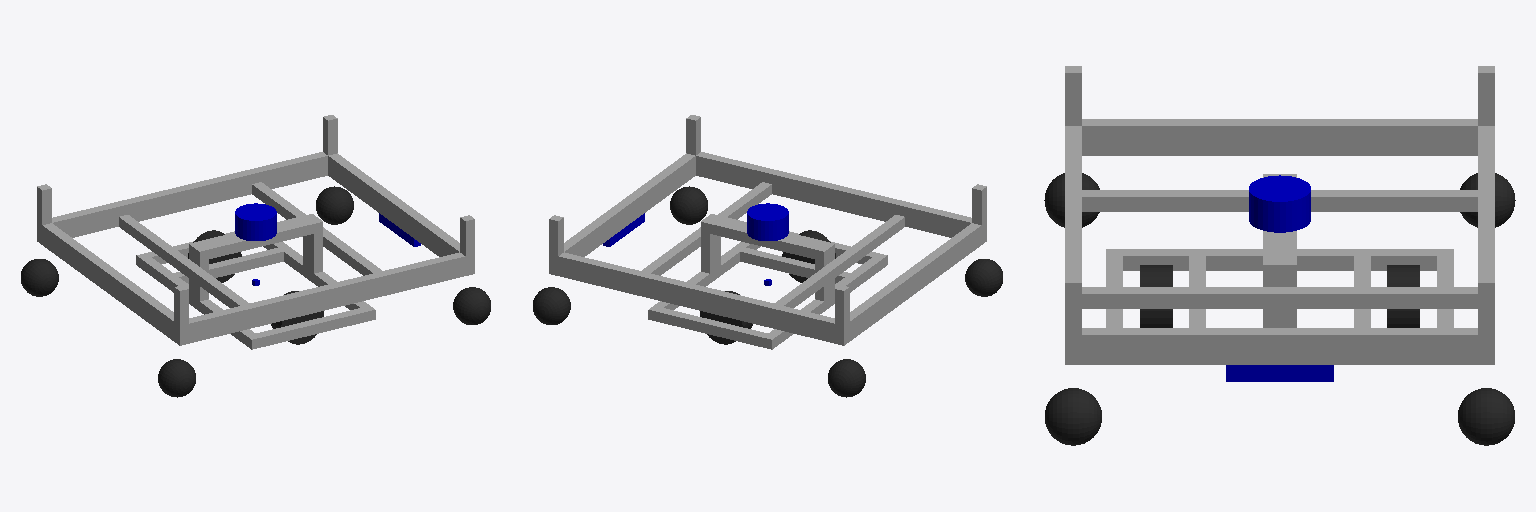
--- Facts derived from the render (not from the file) ---
Views: 3 orthographic renders of the robot side by side, from view 1: azimuth 30°, elevation 25°; view 2: azimuth 150°, elevation 25°; view 3: azimuth 270°, elevation 25°.
Model agv with 34 links and 33 joints (2 continuous, 31 fixed), rooted at base_link, posed all joints at 0.
Links seen in each view (by area): view 1: c5_beam, c6_beam, c3_beam, c4_beam, c1_beam, c2_beam, d10_beam, d3_beam, d6_beam, lidar_link, d2_beam, lfcaster_link (+9 smaller); view 2: c6_beam, c5_beam, c3_beam, c4_beam, c1_beam, c2_beam, d9_beam, d4_beam, d6_beam, lidar_link, d1_beam, rfcaster_link (+9 smaller); view 3: c3_beam, c4_beam, c2_beam, c1_beam, d6_beam, lidar_link, c5_beam, c6_beam, lfcaster_link, rfcaster_link, camera_link, lwheel_link (+14 smaller).
Boxes of the visible links, x1=… form: c5_beam: x1=174, y1=252, x2=474, y2=345; c6_beam: x1=37, y1=152, x2=327, y2=244; c3_beam: x1=42, y1=223, x2=173, y2=340; c4_beam: x1=328, y1=153, x2=459, y2=256; c1_beam: x1=119, y1=215, x2=249, y2=307; c2_beam: x1=252, y1=182, x2=381, y2=275; d10_beam: x1=194, y1=218, x2=322, y2=261; d3_beam: x1=256, y1=308, x2=365, y2=346; d6_beam: x1=136, y1=253, x2=260, y2=349; lidar_link: x1=235, y1=203, x2=276, y2=240; d2_beam: x1=174, y1=248, x2=283, y2=283; lfcaster_link: x1=316, y1=186, x2=353, y2=224; c6_beam: x1=549, y1=252, x2=849, y2=345; c5_beam: x1=696, y1=152, x2=986, y2=244; c3_beam: x1=850, y1=223, x2=981, y2=340; c4_beam: x1=564, y1=153, x2=695, y2=256; c1_beam: x1=774, y1=215, x2=904, y2=307; c2_beam: x1=642, y1=182, x2=771, y2=275; d9_beam: x1=701, y1=218, x2=829, y2=261; d4_beam: x1=658, y1=308, x2=767, y2=346; d6_beam: x1=763, y1=253, x2=887, y2=349; lidar_link: x1=747, y1=203, x2=788, y2=240; d1_beam: x1=740, y1=248, x2=849, y2=283; rfcaster_link: x1=670, y1=186, x2=707, y2=224; c3_beam: x1=1082, y1=119, x2=1477, y2=155; c4_beam: x1=1082, y1=328, x2=1477, y2=364; c2_beam: x1=1082, y1=287, x2=1477, y2=308; c1_beam: x1=1082, y1=190, x2=1477, y2=211; d6_beam: x1=1106, y1=249, x2=1453, y2=270; lidar_link: x1=1249, y1=175, x2=1310, y2=232; c5_beam: x1=1065, y1=126, x2=1081, y2=364; c6_beam: x1=1478, y1=126, x2=1494, y2=364; lfcaster_link: x1=1458, y1=388, x2=1514, y2=445; rfcaster_link: x1=1045, y1=388, x2=1101, y2=445; camera_link: x1=1226, y1=365, x2=1333, y2=381; lwheel_link: x1=1387, y1=265, x2=1419, y2=327.
Size in the robot's own frame: 0.69 by 0.57 by 0.215 metres.
Geometry: primitives only (box / cylinder / sphere), no mesh files.

robot.urdf — agv:
<?xml version="1.0" ?>
<!-- =================================================================================== -->
<!-- |    This document was autogenerated by xacro from ./main.xacro                   | -->
<!-- |    EDITING THIS FILE BY HAND IS NOT RECOMMENDED                                 | -->
<!-- =================================================================================== -->
<robot name="agv">
  <!-- <xacro:beam prefix="c1" parent="base_link" length="0.48" height="0.02" x="0" y="0" z="0" r="1" /> -->
  <!-- <xacro:driver_assembly /> -->
  <!-- <xacro:beam prefix="c1" parent="base_link" length="0.48" height="0.02" x="0" y="0" z="0" r="1" /> -->
  <!-- <xacro:carrier_assembly/> -->
  <!-- <xacro:beam prefix="c1" parent="base_link" length="0.48" height="0.02" x="0" y="0" z="0" r="1" /> -->
  <material name="Black">
    <color rgba="0.2 0.2 0.2 1.0"/>
  </material>
  <material name="Red">
    <color rgba="0.8 0.0 0.0 1.0"/>
  </material>
  <material name="White">
    <color rgba="1.0 1.0 1.0 1.0"/>
  </material>
  <material name="Gray">
    <color rgba="0.7 0.7 0.7 1.0"/>
  </material>
  <material name="Blue">
    <color rgba="0.0 0.0 0.8 1.0"/>
  </material>
  <!-- Base Link -->
  <link name="base_link">
    <visual>
      <geometry>
        <box size="0.001 0.001 0.001"/>
      </geometry>
      <material name="White"/>
    </visual>
  </link>
  <!-- Robot Footprint -->
  <link name="base_footprint"/>
  <joint name="base_joint" type="fixed">
    <parent link="base_link"/>
    <child link="base_footprint"/>
    <origin rpy="0 0 0" xyz="0.0 0.0 0"/>
  </joint>
  <link name="driver_base">
    <visual>
      <origin rpy="0 0 0" xyz="0 0 0"/>
      <geometry>
        <box size="0.001 0.001 0.001"/>
      </geometry>
    </visual>
    <inertial>
      <mass value="0.0001"/>
      <origin xyz="0 0 0"/>
      <inertia ixx="0.0001" ixy="0.0" ixz="0.0" iyy="0.0001" iyz="0.0" izz="0.0001"/>
    </inertial>
  </link>
  <link name="d1_beam">
    <visual>
      <origin rpy="0 0 1.5707963267948966" xyz="0 0 0"/>
      <geometry>
        <box size="0.22 0.02 0.02"/>
      </geometry>
      <material name="Gray"/>
    </visual>
    <collision>
      <origin rpy="0 0 1.5707963267948966" xyz="0 0 0"/>
      <geometry>
        <box size="0.22 0.02 0.02"/>
      </geometry>
    </collision>
    <inertial>
      <origin rpy="1.5707963267948966 0 1.5707963267948966" xyz="0 0 0"/>
      <mass value="0.094875"/>
      <inertia ixx="0.00038582499999999996" ixy="0.0" ixz="0.0" iyy="0.00038582499999999996" iyz="0.0" izz="6.3250000000000004e-06"/>
    </inertial>
  </link>
  <joint name="d1_beam_joint" type="fixed">
    <parent link="driver_base"/>
    <child link="d1_beam"/>
    <origin rpy="0 0 0" xyz="-0.1 0 0"/>
  </joint>
  <link name="d2_beam">
    <visual>
      <origin rpy="0 0 1.5707963267948966" xyz="0 0 0"/>
      <geometry>
        <box size="0.22 0.02 0.02"/>
      </geometry>
      <material name="Gray"/>
    </visual>
    <collision>
      <origin rpy="0 0 1.5707963267948966" xyz="0 0 0"/>
      <geometry>
        <box size="0.22 0.02 0.02"/>
      </geometry>
    </collision>
    <inertial>
      <origin rpy="1.5707963267948966 0 1.5707963267948966" xyz="0 0 0"/>
      <mass value="0.094875"/>
      <inertia ixx="0.00038582499999999996" ixy="0.0" ixz="0.0" iyy="0.00038582499999999996" iyz="0.0" izz="6.3250000000000004e-06"/>
    </inertial>
  </link>
  <joint name="d2_beam_joint" type="fixed">
    <parent link="driver_base"/>
    <child link="d2_beam"/>
    <origin rpy="0 0 0" xyz="0.1 0 0"/>
  </joint>
  <link name="d3_beam">
    <visual>
      <origin rpy="0 0 1.5707963267948966" xyz="0 0 0"/>
      <geometry>
        <box size="0.22 0.02 0.02"/>
      </geometry>
      <material name="Gray"/>
    </visual>
    <collision>
      <origin rpy="0 0 1.5707963267948966" xyz="0 0 0"/>
      <geometry>
        <box size="0.22 0.02 0.02"/>
      </geometry>
    </collision>
    <inertial>
      <origin rpy="1.5707963267948966 0 1.5707963267948966" xyz="0 0 0"/>
      <mass value="0.094875"/>
      <inertia ixx="0.00038582499999999996" ixy="0.0" ixz="0.0" iyy="0.00038582499999999996" iyz="0.0" izz="6.3250000000000004e-06"/>
    </inertial>
  </link>
  <joint name="d3_beam_joint" type="fixed">
    <parent link="driver_base"/>
    <child link="d3_beam"/>
    <origin rpy="0 0 0" xyz="-0.2 0 0"/>
  </joint>
  <link name="d4_beam">
    <visual>
      <origin rpy="0 0 1.5707963267948966" xyz="0 0 0"/>
      <geometry>
        <box size="0.22 0.02 0.02"/>
      </geometry>
      <material name="Gray"/>
    </visual>
    <collision>
      <origin rpy="0 0 1.5707963267948966" xyz="0 0 0"/>
      <geometry>
        <box size="0.22 0.02 0.02"/>
      </geometry>
    </collision>
    <inertial>
      <origin rpy="1.5707963267948966 0 1.5707963267948966" xyz="0 0 0"/>
      <mass value="0.094875"/>
      <inertia ixx="0.00038582499999999996" ixy="0.0" ixz="0.0" iyy="0.00038582499999999996" iyz="0.0" izz="6.3250000000000004e-06"/>
    </inertial>
  </link>
  <joint name="d4_beam_joint" type="fixed">
    <parent link="driver_base"/>
    <child link="d4_beam"/>
    <origin rpy="0 0 0" xyz="0.2 0 0"/>
  </joint>
  <link name="d5_beam">
    <visual>
      <origin rpy="0 0 0.0" xyz="0 0 0"/>
      <geometry>
        <box size="0.42 0.02 0.02"/>
      </geometry>
      <material name="Gray"/>
    </visual>
    <collision>
      <origin rpy="0 0 0.0" xyz="0 0 0"/>
      <geometry>
        <box size="0.42 0.02 0.02"/>
      </geometry>
    </collision>
    <inertial>
      <origin rpy="1.5707963267948966 0 1.5707963267948966" xyz="0 0 0"/>
      <mass value="0.181125"/>
      <inertia ixx="0.002668575" ixy="0.0" ixz="0.0" iyy="0.002668575" iyz="0.0" izz="1.2075000000000002e-05"/>
    </inertial>
  </link>
  <joint name="d5_beam_joint" type="fixed">
    <parent link="driver_base"/>
    <child link="d5_beam"/>
    <origin rpy="0 0 0" xyz="0 -0.12 0"/>
  </joint>
  <link name="d6_beam">
    <visual>
      <origin rpy="0 0 0.0" xyz="0 0 0"/>
      <geometry>
        <box size="0.42 0.02 0.02"/>
      </geometry>
      <material name="Gray"/>
    </visual>
    <collision>
      <origin rpy="0 0 0.0" xyz="0 0 0"/>
      <geometry>
        <box size="0.42 0.02 0.02"/>
      </geometry>
    </collision>
    <inertial>
      <origin rpy="1.5707963267948966 0 1.5707963267948966" xyz="0 0 0"/>
      <mass value="0.181125"/>
      <inertia ixx="0.002668575" ixy="0.0" ixz="0.0" iyy="0.002668575" iyz="0.0" izz="1.2075000000000002e-05"/>
    </inertial>
  </link>
  <joint name="d6_beam_joint" type="fixed">
    <parent link="driver_base"/>
    <child link="d6_beam"/>
    <origin rpy="0 0 0" xyz="0 0.12 0"/>
  </joint>
  <link name="d7_beam">
    <visual>
      <origin rpy="0 0 0.0" xyz="0 0 0"/>
      <geometry>
        <box size="0.04 0.02 0.08"/>
      </geometry>
      <material name="Gray"/>
    </visual>
    <inertial>
      <origin rpy="1.5707963267948966 0 1.5707963267948966" xyz="0 0 0"/>
      <mass value="0.069"/>
      <inertia ixx="4.600000000000001e-05" ixy="0.0" ixz="0.0" iyy="1.1500000000000002e-05" iyz="0.0" izz="3.910000000000001e-05"/>
    </inertial>
  </link>
  <joint name="d7_beam_joint" type="fixed">
    <parent link="driver_base"/>
    <child link="d7_beam"/>
    <origin rpy="0 0 0" xyz="0 -0.12 0.05"/>
  </joint>
  <link name="d8_beam">
    <visual>
      <origin rpy="0 0 0.0" xyz="0 0 0"/>
      <geometry>
        <box size="0.04 0.02 0.08"/>
      </geometry>
      <material name="Gray"/>
    </visual>
    <inertial>
      <origin rpy="1.5707963267948966 0 1.5707963267948966" xyz="0 0 0"/>
      <mass value="0.069"/>
      <inertia ixx="4.600000000000001e-05" ixy="0.0" ixz="0.0" iyy="1.1500000000000002e-05" iyz="0.0" izz="3.910000000000001e-05"/>
    </inertial>
  </link>
  <joint name="d8_beam_joint" type="fixed">
    <parent link="driver_base"/>
    <child link="d8_beam"/>
    <origin rpy="0 0 0" xyz="0 0.12 0.05"/>
  </joint>
  <link name="d9_beam">
    <visual>
      <origin rpy="0 0 1.5707963267948966" xyz="0 0 0"/>
      <geometry>
        <box size="0.26 0.02 0.02"/>
      </geometry>
      <material name="Gray"/>
    </visual>
    <inertial>
      <origin rpy="1.5707963267948966 0 1.5707963267948966" xyz="0 0 0"/>
      <mass value="0.11212500000000002"/>
      <inertia ixx="0.0006353750000000001" ixy="0.0" ixz="0.0" iyy="0.0006353750000000001" iyz="0.0" izz="7.475000000000001e-06"/>
    </inertial>
  </link>
  <joint name="d9_beam_joint" type="fixed">
    <parent link="driver_base"/>
    <child link="d9_beam"/>
    <origin rpy="0 0 0" xyz="0.01 0 0.1"/>
  </joint>
  <link name="d10_beam">
    <visual>
      <origin rpy="0 0 1.5707963267948966" xyz="0 0 0"/>
      <geometry>
        <box size="0.26 0.02 0.02"/>
      </geometry>
      <material name="Gray"/>
    </visual>
    <inertial>
      <origin rpy="1.5707963267948966 0 1.5707963267948966" xyz="0 0 0"/>
      <mass value="0.11212500000000002"/>
      <inertia ixx="0.0006353750000000001" ixy="0.0" ixz="0.0" iyy="0.0006353750000000001" iyz="0.0" izz="7.475000000000001e-06"/>
    </inertial>
  </link>
  <joint name="d10_beam_joint" type="fixed">
    <parent link="driver_base"/>
    <child link="d10_beam"/>
    <origin rpy="0 0 0" xyz="-0.01 0 0.1"/>
  </joint>
  <joint name="driver_base_joint" type="fixed">
    <parent link="base_link"/>
    <child link="driver_base"/>
    <origin rpy="0 0 1.5707963267948966" xyz="0 0 0"/>
  </joint>
  <link name="carrier_base">
    <visual>
      <origin rpy="0 0 0" xyz="0 0 0"/>
      <geometry>
        <box size="0.001 0.001 0.001"/>
      </geometry>
    </visual>
    <inertial>
      <mass value="0.0001"/>
      <origin xyz="0 0 0"/>
      <inertia ixx="0.0001" ixy="0.0" ixz="0.0" iyy="0.0001" iyz="0.0" izz="0.0001"/>
    </inertial>
  </link>
  <link name="c1_beam">
    <visual>
      <origin rpy="0 0 1.5707963267948966" xyz="0 0 0"/>
      <geometry>
        <box size="0.48 0.02 0.02"/>
      </geometry>
      <material name="Gray"/>
    </visual>
    <collision>
      <origin rpy="0 0 1.5707963267948966" xyz="0 0 0"/>
      <geometry>
        <box size="0.48 0.02 0.02"/>
      </geometry>
    </collision>
    <inertial>
      <origin rpy="1.5707963267948966 0 1.5707963267948966" xyz="0 0 0"/>
      <mass value="0.207"/>
      <inertia ixx="0.003981299999999999" ixy="0.0" ixz="0.0" iyy="0.003981299999999999" iyz="0.0" izz="1.3799999999999998e-05"/>
    </inertial>
  </link>
  <joint name="c1_beam_joint" type="fixed">
    <parent link="carrier_base"/>
    <child link="c1_beam"/>
    <origin rpy="0 0 0" xyz="-0.14 0 -0.01"/>
  </joint>
  <link name="c2_beam">
    <visual>
      <origin rpy="0 0 1.5707963267948966" xyz="0 0 0"/>
      <geometry>
        <box size="0.48 0.02 0.02"/>
      </geometry>
      <material name="Gray"/>
    </visual>
    <collision>
      <origin rpy="0 0 1.5707963267948966" xyz="0 0 0"/>
      <geometry>
        <box size="0.48 0.02 0.02"/>
      </geometry>
    </collision>
    <inertial>
      <origin rpy="1.5707963267948966 0 1.5707963267948966" xyz="0 0 0"/>
      <mass value="0.207"/>
      <inertia ixx="0.003981299999999999" ixy="0.0" ixz="0.0" iyy="0.003981299999999999" iyz="0.0" izz="1.3799999999999998e-05"/>
    </inertial>
  </link>
  <joint name="c2_beam_joint" type="fixed">
    <parent link="carrier_base"/>
    <child link="c2_beam"/>
    <origin rpy="0 0 0" xyz="0.14 0 -0.01"/>
  </joint>
  <link name="c3_beam">
    <visual>
      <origin rpy="0 0 1.5707963267948966" xyz="0 0 0"/>
      <geometry>
        <box size="0.48 0.02 0.04"/>
      </geometry>
      <material name="Gray"/>
    </visual>
    <collision>
      <origin rpy="0 0 1.5707963267948966" xyz="0 0 0"/>
      <geometry>
        <box size="0.48 0.02 0.04"/>
      </geometry>
    </collision>
    <inertial>
      <origin rpy="1.5707963267948966 0 1.5707963267948966" xyz="0 0 0"/>
      <mass value="0.414"/>
      <inertia ixx="0.008003999999999999" ixy="0.0" ixz="0.0" iyy="0.007962599999999998" iyz="0.0" izz="6.9e-05"/>
    </inertial>
  </link>
  <joint name="c3_beam_joint" type="fixed">
    <parent link="carrier_base"/>
    <child link="c3_beam"/>
    <origin rpy="0 0 0" xyz="-0.3 0 0"/>
  </joint>
  <link name="c4_beam">
    <visual>
      <origin rpy="0 0 1.5707963267948966" xyz="0 0 0"/>
      <geometry>
        <box size="0.48 0.02 0.04"/>
      </geometry>
      <material name="Gray"/>
    </visual>
    <collision>
      <origin rpy="0 0 1.5707963267948966" xyz="0 0 0"/>
      <geometry>
        <box size="0.48 0.02 0.04"/>
      </geometry>
    </collision>
    <inertial>
      <origin rpy="1.5707963267948966 0 1.5707963267948966" xyz="0 0 0"/>
      <mass value="0.414"/>
      <inertia ixx="0.008003999999999999" ixy="0.0" ixz="0.0" iyy="0.007962599999999998" iyz="0.0" izz="6.9e-05"/>
    </inertial>
  </link>
  <joint name="c4_beam_joint" type="fixed">
    <parent link="carrier_base"/>
    <child link="c4_beam"/>
    <origin rpy="0 0 0" xyz="0.3 0 0"/>
  </joint>
  <link name="c5_beam">
    <visual>
      <origin rpy="0 0 0.0" xyz="0 0 0"/>
      <geometry>
        <box size="0.62 0.02 0.04"/>
      </geometry>
      <material name="Gray"/>
    </visual>
    <collision>
      <origin rpy="0 0 0.0" xyz="0 0 0"/>
      <geometry>
        <box size="0.62 0.02 0.04"/>
      </geometry>
    </collision>
    <inertial>
      <origin rpy="1.5707963267948966 0 1.5707963267948966" xyz="0 0 0"/>
      <mass value="0.5347500000000001"/>
      <inertia ixx="0.017201125" ixy="0.0" ixz="0.0" iyy="0.017147650000000004" iyz="0.0" izz="8.912500000000001e-05"/>
    </inertial>
  </link>
  <joint name="c5_beam_joint" type="fixed">
    <parent link="carrier_base"/>
    <child link="c5_beam"/>
    <origin rpy="0 0 0" xyz="0 -0.25 0"/>
  </joint>
  <link name="c6_beam">
    <visual>
      <origin rpy="0 0 0.0" xyz="0 0 0"/>
      <geometry>
        <box size="0.62 0.02 0.04"/>
      </geometry>
      <material name="Gray"/>
    </visual>
    <collision>
      <origin rpy="0 0 0.0" xyz="0 0 0"/>
      <geometry>
        <box size="0.62 0.02 0.04"/>
      </geometry>
    </collision>
    <inertial>
      <origin rpy="1.5707963267948966 0 1.5707963267948966" xyz="0 0 0"/>
      <mass value="0.5347500000000001"/>
      <inertia ixx="0.017201125" ixy="0.0" ixz="0.0" iyy="0.017147650000000004" iyz="0.0" izz="8.912500000000001e-05"/>
    </inertial>
  </link>
  <joint name="c6_beam_joint" type="fixed">
    <parent link="carrier_base"/>
    <child link="c6_beam"/>
    <origin rpy="0 0 0" xyz="0 0.25 0"/>
  </joint>
  <link name="c7_beam">
    <visual>
      <origin rpy="0 0 0.0" xyz="0 0 0"/>
      <geometry>
        <box size="0.02 0.02 0.07"/>
      </geometry>
      <material name="Gray"/>
    </visual>
    <collision>
      <origin rpy="0 0 0.0" xyz="0 0 0"/>
      <geometry>
        <box size="0.02 0.02 0.07"/>
      </geometry>
    </collision>
    <inertial>
      <origin rpy="1.5707963267948966 0 1.5707963267948966" xyz="0 0 0"/>
      <mass value="0.030187500000000006"/>
      <inertia ixx="1.3332812500000005e-05" ixy="0.0" ixz="0.0" iyy="2.0125000000000006e-06" iyz="0.0" izz="1.3332812500000005e-05"/>
    </inertial>
  </link>
  <joint name="c7_beam_joint" type="fixed">
    <parent link="carrier_base"/>
    <child link="c7_beam"/>
    <origin rpy="0 0 0" xyz="0.3 -0.25 0.055"/>
  </joint>
  <link name="c8_beam">
    <visual>
      <origin rpy="0 0 0.0" xyz="0 0 0"/>
      <geometry>
        <box size="0.02 0.02 0.07"/>
      </geometry>
      <material name="Gray"/>
    </visual>
    <collision>
      <origin rpy="0 0 0.0" xyz="0 0 0"/>
      <geometry>
        <box size="0.02 0.02 0.07"/>
      </geometry>
    </collision>
    <inertial>
      <origin rpy="1.5707963267948966 0 1.5707963267948966" xyz="0 0 0"/>
      <mass value="0.030187500000000006"/>
      <inertia ixx="1.3332812500000005e-05" ixy="0.0" ixz="0.0" iyy="2.0125000000000006e-06" iyz="0.0" izz="1.3332812500000005e-05"/>
    </inertial>
  </link>
  <joint name="c8_beam_joint" type="fixed">
    <parent link="carrier_base"/>
    <child link="c8_beam"/>
    <origin rpy="0 0 0" xyz="0.3 0.25 0.055"/>
  </joint>
  <link name="c9_beam">
    <visual>
      <origin rpy="0 0 0.0" xyz="0 0 0"/>
      <geometry>
        <box size="0.02 0.02 0.07"/>
      </geometry>
      <material name="Gray"/>
    </visual>
    <collision>
      <origin rpy="0 0 0.0" xyz="0 0 0"/>
      <geometry>
        <box size="0.02 0.02 0.07"/>
      </geometry>
    </collision>
    <inertial>
      <origin rpy="1.5707963267948966 0 1.5707963267948966" xyz="0 0 0"/>
      <mass value="0.030187500000000006"/>
      <inertia ixx="1.3332812500000005e-05" ixy="0.0" ixz="0.0" iyy="2.0125000000000006e-06" iyz="0.0" izz="1.3332812500000005e-05"/>
    </inertial>
  </link>
  <joint name="c9_beam_joint" type="fixed">
    <parent link="carrier_base"/>
    <child link="c9_beam"/>
    <origin rpy="0 0 0" xyz="-0.3 -0.25 0.055"/>
  </joint>
  <link name="c10_beam">
    <visual>
      <origin rpy="0 0 0.0" xyz="0 0 0"/>
      <geometry>
        <box size="0.02 0.02 0.07"/>
      </geometry>
      <material name="Gray"/>
    </visual>
    <collision>
      <origin rpy="0 0 0.0" xyz="0 0 0"/>
      <geometry>
        <box size="0.02 0.02 0.07"/>
      </geometry>
    </collision>
    <inertial>
      <origin rpy="1.5707963267948966 0 1.5707963267948966" xyz="0 0 0"/>
      <mass value="0.030187500000000006"/>
      <inertia ixx="1.3332812500000005e-05" ixy="0.0" ixz="0.0" iyy="2.0125000000000006e-06" iyz="0.0" izz="1.3332812500000005e-05"/>
    </inertial>
  </link>
  <joint name="c10_beam_joint" type="fixed">
    <parent link="carrier_base"/>
    <child link="c10_beam"/>
    <origin rpy="0 0 0" xyz="-0.3 0.25 0.055"/>
  </joint>
  <joint name="carrier_base_joint" type="fixed">
    <parent link="base_link"/>
    <child link="carrier_base"/>
    <origin rpy="0 0 0" xyz="0 0 0.08"/>
  </joint>
  <link name="lwheel_link">
    <visual>
      <origin rpy="1.5707963267948966 0 0" xyz="0 0 0"/>
      <geometry>
        <cylinder length="0.04" radius="0.045"/>
      </geometry>
      <material name="Black"/>
    </visual>
    <collision>
      <origin rpy="1.5707963267948966 0 0" xyz="0 0 0"/>
      <geometry>
        <cylinder length="0.04" radius="0.045"/>
      </geometry>
    </collision>
    <inertial>
      <origin rpy="1.5707963267948966 0 0" xyz="0 0 0"/>
      <mass value="0.5"/>
      <inertia ixx="0.0003197916666666667" ixy="0" ixz="0" iyy="0.0003197916666666667" iyz="0" izz="0.00050625"/>
    </inertial>
  </link>
  <joint name="lwheel_joint" type="continuous">
    <parent link="base_link"/>
    <child link="lwheel_link"/>
    <axis rpy="0 0 0" xyz="0 1 0"/>
    <origin rpy="0 0 0" xyz="0 0.15 0"/>
  </joint>
  <link name="rwheel_link">
    <visual>
      <origin rpy="1.5707963267948966 0 0" xyz="0 0 0"/>
      <geometry>
        <cylinder length="0.04" radius="0.045"/>
      </geometry>
      <material name="Black"/>
    </visual>
    <collision>
      <origin rpy="1.5707963267948966 0 0" xyz="0 0 0"/>
      <geometry>
        <cylinder length="0.04" radius="0.045"/>
      </geometry>
    </collision>
    <inertial>
      <origin rpy="1.5707963267948966 0 0" xyz="0 0 0"/>
      <mass value="0.5"/>
      <inertia ixx="0.0003197916666666667" ixy="0" ixz="0" iyy="0.0003197916666666667" iyz="0" izz="0.00050625"/>
    </inertial>
  </link>
  <joint name="rwheel_joint" type="continuous">
    <parent link="base_link"/>
    <child link="rwheel_link"/>
    <axis rpy="0 0 0" xyz="0 1 0"/>
    <origin rpy="0 0 0" xyz="0 -0.15 0"/>
  </joint>
  <link name="lfcaster_link">
    <visual>
      <origin rpy="1.5707963267948966 0 0" xyz="0 0 0"/>
      <geometry>
        <sphere radius="0.035"/>
      </geometry>
      <material name="Black"/>
    </visual>
    <collision>
      <origin rpy="1.5707963267948966 0 0" xyz="0 0 0"/>
      <geometry>
        <cylinder length="0.02" radius="0.035"/>
      </geometry>
    </collision>
    <inertial>
      <mass value="0.5"/>
      <inertia ixx="0.00024500000000000005" ixy="0.0" ixz="0.0" iyy="0.00024500000000000005" iyz="0.0" izz="0.00024500000000000005"/>
    </inertial>
  </link>
  <joint name="lfcaster_joint" type="fixed">
    <parent link="carrier_base"/>
    <child link="lfcaster_link"/>
    <origin rpy="0 0 0" xyz="0.31 0.25 -0.089"/>
    <axis xyz="0 1 0"/>
  </joint>
  <link name="rfcaster_link">
    <visual>
      <origin rpy="1.5707963267948966 0 0" xyz="0 0 0"/>
      <geometry>
        <sphere radius="0.035"/>
      </geometry>
      <material name="Black"/>
    </visual>
    <collision>
      <origin rpy="1.5707963267948966 0 0" xyz="0 0 0"/>
      <geometry>
        <cylinder length="0.02" radius="0.035"/>
      </geometry>
    </collision>
    <inertial>
      <mass value="0.5"/>
      <inertia ixx="0.00024500000000000005" ixy="0.0" ixz="0.0" iyy="0.00024500000000000005" iyz="0.0" izz="0.00024500000000000005"/>
    </inertial>
  </link>
  <joint name="rfcaster_joint" type="fixed">
    <parent link="carrier_base"/>
    <child link="rfcaster_link"/>
    <origin rpy="0 0 0" xyz="0.31 -0.25 -0.089"/>
    <axis xyz="0 1 0"/>
  </joint>
  <link name="lbcaster_link">
    <visual>
      <origin rpy="1.5707963267948966 0 0" xyz="0 0 0"/>
      <geometry>
        <sphere radius="0.035"/>
      </geometry>
      <material name="Black"/>
    </visual>
    <collision>
      <origin rpy="1.5707963267948966 0 0" xyz="0 0 0"/>
      <geometry>
        <cylinder length="0.02" radius="0.035"/>
      </geometry>
    </collision>
    <inertial>
      <mass value="0.5"/>
      <inertia ixx="0.00024500000000000005" ixy="0.0" ixz="0.0" iyy="0.00024500000000000005" iyz="0.0" izz="0.00024500000000000005"/>
    </inertial>
  </link>
  <joint name="lbcaster_joint" type="fixed">
    <parent link="carrier_base"/>
    <child link="lbcaster_link"/>
    <origin rpy="0 0 0" xyz="-0.31 0.25 -0.089"/>
    <axis xyz="0 1 0"/>
  </joint>
  <link name="rbcaster_link">
    <visual>
      <origin rpy="1.5707963267948966 0 0" xyz="0 0 0"/>
      <geometry>
        <sphere radius="0.035"/>
      </geometry>
      <material name="Black"/>
    </visual>
    <collision>
      <origin rpy="1.5707963267948966 0 0" xyz="0 0 0"/>
      <geometry>
        <cylinder length="0.02" radius="0.035"/>
      </geometry>
    </collision>
    <inertial>
      <mass value="0.5"/>
      <inertia ixx="0.00024500000000000005" ixy="0.0" ixz="0.0" iyy="0.00024500000000000005" iyz="0.0" izz="0.00024500000000000005"/>
    </inertial>
  </link>
  <joint name="rbcaster_joint" type="fixed">
    <parent link="carrier_base"/>
    <child link="rbcaster_link"/>
    <origin rpy="0 0 0" xyz="-0.31 -0.25 -0.089"/>
    <axis xyz="0 1 0"/>
  </joint>
  <link name="camera_link">
    <visual>
      <origin rpy="0 0 0.0" xyz="0 0 0"/>
      <geometry>
        <box size="0.015 0.13 0.022"/>
      </geometry>
      <material name="Blue"/>
    </visual>
  </link>
  <joint name="camera_joint" type="fixed">
    <parent link="base_link"/>
    <child link="camera_link"/>
    <origin rpy="0 0 0" xyz="0.3025 0 0.049"/>
  </joint>
  <link name="camera_depth_frame"/>
  <joint name="camera_depth_joint" type="fixed">
    <origin rpy="-1.5707963267948966 0 -3.141592653589793" xyz="0 0 0"/>
    <parent link="camera_link"/>
    <child link="camera_depth_frame"/>
  </joint>
  <gazebo reference="camera_link">
    <sensor name="kinect" type="depth">
      <visualize>true</visualize>
      <update_rate>30.0</update_rate>
      <camera name="camera">
        <horizontal_fov>1.047198</horizontal_fov>
        <image>
          <width>640</width>
          <height>480</height>
          <format>R8G8B8</format>
        </image>
        <clip>
          <near>0.08</near>
          <far>10</far>
        </clip>
      </camera>
      <plugin filename="libgazebo_ros_camera.so" name="depth_camera_controller">
        <baseline>0.2</baseline>
        <alwaysOn>true</alwaysOn>
        <updateRate>0.0</updateRate>
        <frameName>kinect_depth</frameName>
        <pointCloudCutoff>0.8</pointCloudCutoff>
        <pointCloudCutoffMax>6.0</pointCloudCutoffMax>
        <distortionK1>0</distortionK1>
        <distortionK2>0</distortionK2>
        <distortionK3>0</distortionK3>
        <distortionT1>0</distortionT1>
        <distortionT2>0</distortionT2>
        <CxPrime>0</CxPrime>
        <Cx>0</Cx>
        <Cy>0</Cy>
        <focalLength>0</focalLength>
        <hackBaseline>0</hackBaseline>
      </plugin>
    </sensor>
  </gazebo>
  <link name="imu_link">
    <visual>
      <geometry>
        <box size="0.01 0.01 0.01"/>
      </geometry>
      <material name="Blue"/>
    </visual>
    <collision>
      <geometry>
        <box size="0.01 0.01 0.01"/>
      </geometry>
    </collision>
    <inertial>
      <origin rpy="1.5707963267948966 0 1.5707963267948966" xyz="0 0 0"/>
      <mass value="0.01"/>
      <inertia ixx="1.6666666666666668e-07" ixy="0.0" ixz="0.0" iyy="1.6666666666666668e-07" iyz="0.0" izz="1.6666666666666668e-07"/>
    </inertial>
  </link>
  <joint name="imu_joint" type="fixed">
    <parent link="base_link"/>
    <child link="imu_link"/>
    <origin xyz="0 0 0.01"/>
  </joint>
  <gazebo reference="imu_link">
    <sensor name="imu_sensor" type="imu">
      <plugin filename="libgazebo_ros_imu_sensor.so" name="imu_plugin">
        <ros>
          <namespace>/demo</namespace>
          <remapping>~/out:=imu</remapping>
        </ros>
        <initial_orientation_as_reference>false</initial_orientation_as_reference>
      </plugin>
      <always_on>true</always_on>
      <update_rate>100</update_rate>
      <visualize>true</visualize>
      <imu>
        <angular_velocity>
          <x>
            <noise type="gaussian">
              <mean>0.0</mean>
              <stddev>2e-4</stddev>
              <bias_mean>0.0000075</bias_mean>
              <bias_stddev>0.0000008</bias_stddev>
            </noise>
          </x>
          <y>
            <noise type="gaussian">
              <mean>0.0</mean>
              <stddev>2e-4</stddev>
              <bias_mean>0.0000075</bias_mean>
              <bias_stddev>0.0000008</bias_stddev>
            </noise>
          </y>
          <z>
            <noise type="gaussian">
              <mean>0.0</mean>
              <stddev>2e-4</stddev>
              <bias_mean>0.0000075</bias_mean>
              <bias_stddev>0.0000008</bias_stddev>
            </noise>
          </z>
        </angular_velocity>
        <linear_acceleration>
          <x>
            <noise type="gaussian">
              <mean>0.0</mean>
              <stddev>1.7e-2</stddev>
              <bias_mean>0.1</bias_mean>
              <bias_stddev>0.001</bias_stddev>
            </noise>
          </x>
          <y>
            <noise type="gaussian">
              <mean>0.0</mean>
              <stddev>1.7e-2</stddev>
              <bias_mean>0.1</bias_mean>
              <bias_stddev>0.001</bias_stddev>
            </noise>
          </y>
          <z>
            <noise type="gaussian">
              <mean>0.0</mean>
              <stddev>1.7e-2</stddev>
              <bias_mean>0.1</bias_mean>
              <bias_stddev>0.001</bias_stddev>
            </noise>
          </z>
        </linear_acceleration>
      </imu>
    </sensor>
  </gazebo>
  <link name="lidar_link">
    <visual>
      <origin rpy="0 0 0.0" xyz="0 0 0"/>
      <geometry>
        <cylinder length="0.041" radius="0.038"/>
      </geometry>
      <material name="Blue"/>
    </visual>
    <collision>
      <origin rpy="0 0 0" xyz="0 0 0"/>
      <geometry>
        <cylinder length="0.041" radius="0.038"/>
      </geometry>
    </collision>
    <inertial>
      <origin rpy="0 0 0" xyz="0 0 0"/>
      <mass value="0.125"/>
      <inertia ixx="0.001" ixy="0" ixz="0" iyy="0.001" iyz="0" izz="0.001"/>
    </inertial>
  </link>
  <joint name="lidar_joint" type="fixed">
    <parent link="base_link"/>
    <child link="lidar_link"/>
    <origin rpy="0 0 0" xyz="0 0 0.1305"/>
  </joint>
  <gazebo reference="lidar_link">
    <sensor name="lidar" type="ray">
      <always_on>true</always_on>
      <visualize>true</visualize>
      <update_rate>5</update_rate>
      <ray>
        <scan>
          <horizontal>
            <samples>360</samples>
            <resolution>1.000000</resolution>
            <min_angle>0.000000</min_angle>
            <max_angle>6.280000</max_angle>
          </horizontal>
        </scan>
        <range>
          <min>0.120000</min>
          <max>3.5</max>
          <resolution>0.015000</resolution>
        </range>
        <noise>
          <type>gaussian</type>
          <mean>0.0</mean>
          <stddev>0.01</stddev>
        </noise>
      </ray>
      <plugin filename="libgazebo_ros_ray_sensor.so" name="scan">
        <ros>
          <remapping>~/out:=scan</remapping>
        </ros>
        <output_type>sensor_msgs/LaserScan</output_type>
        <frame_name>lidar_link</frame_name>
      </plugin>
    </sensor>
  </gazebo>
  <gazebo>
    <plugin filename="libgazebo_ros_diff_drive.so" name="diff_drive">
      <ros>
        <namespace>/</namespace>
      </ros>
      <!-- wheels -->
      <left_joint>lwheel_joint</left_joint>
      <right_joint>rwheel_joint</right_joint>
      <!-- kinematics -->
      <wheel_separation>0.3</wheel_separation>
      <wheel_diameter>0.09</wheel_diameter>
      <!-- limits -->
      <max_wheel_torque>20</max_wheel_torque>
      <max_wheel_acceleration>1.0</max_wheel_acceleration>
      <!-- output -->
      <publish_odom>true</publish_odom>
      <publish_odom_tf>true</publish_odom_tf>
      <publish_wheel_tf>true</publish_wheel_tf>
      <odometry_frame>odom</odometry_frame>
      <robot_base_frame>base_link</robot_base_frame>
    </plugin>
  </gazebo>
</robot>
